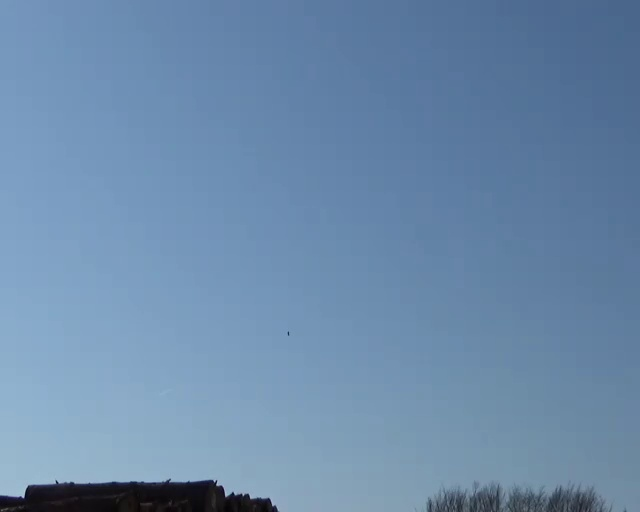BIRD: (286, 326, 293, 334)
